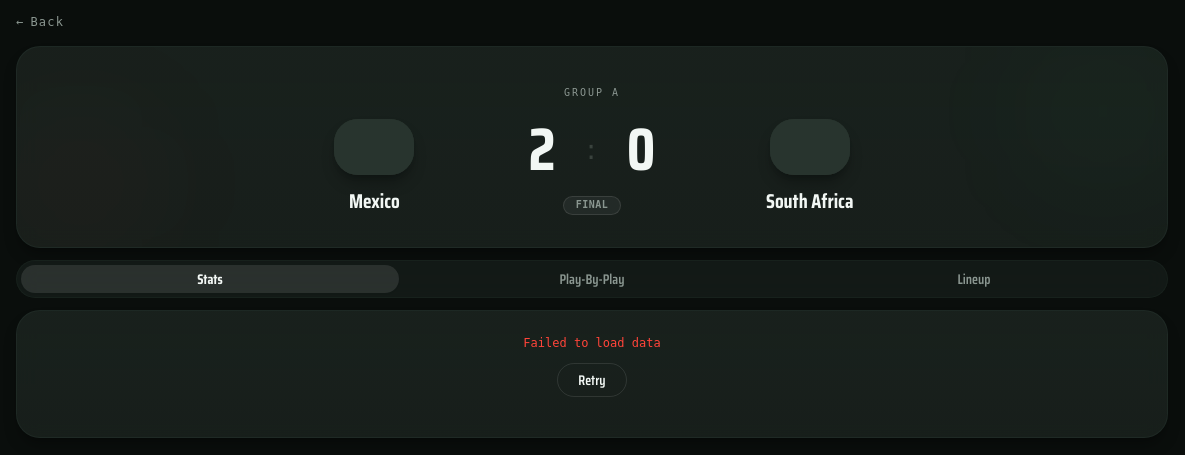
Test: shows an i18n error with a retry button that refetches
expect the text "Failed to load data" is shown: met, box [523,336,661,350]
Click the button "Retry".
click(592, 380)  # box [557,363,627,397]
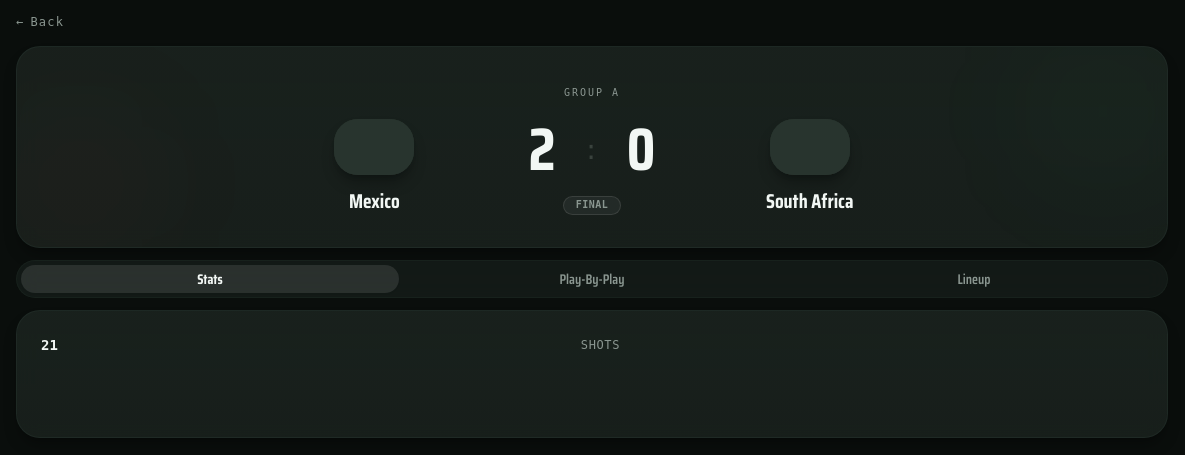
expect the text "Shots" is shown: met, box [581,337,620,353]
